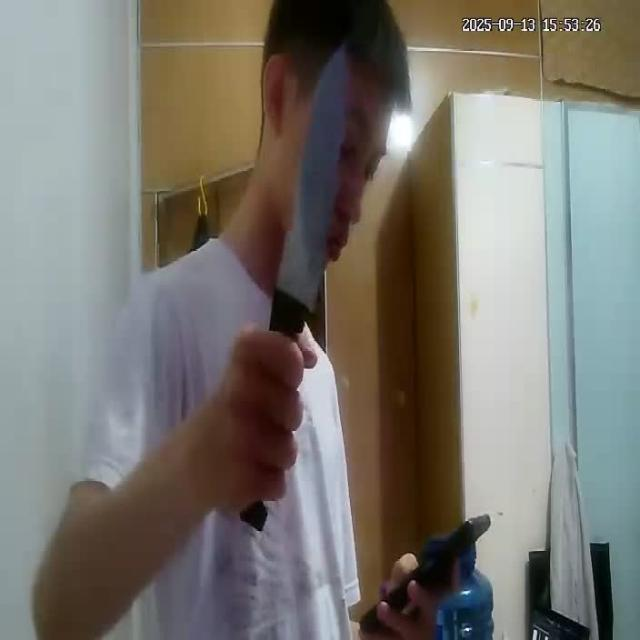senjata_tajam: (270, 42, 348, 335)
